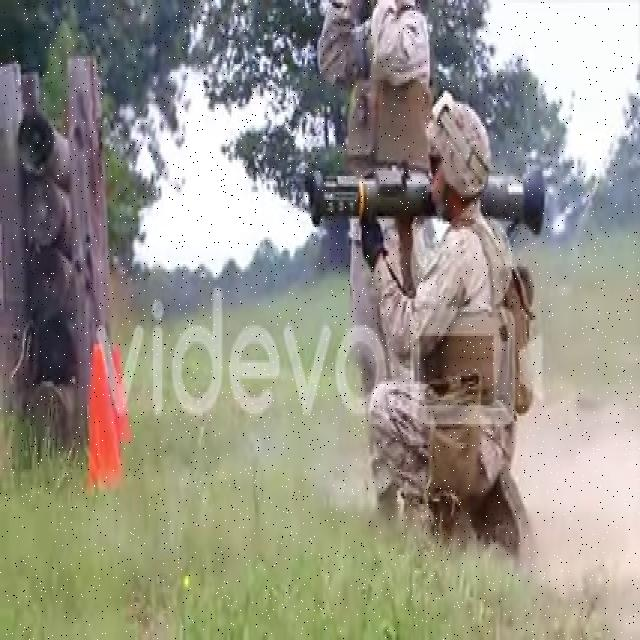bazooka: (304, 160, 551, 240)
